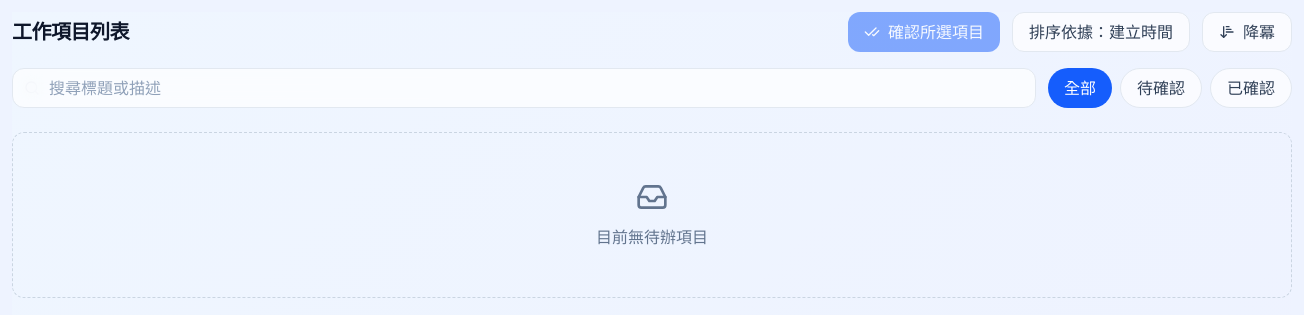
Test: WorkItemsList › 可切換排序欄位為標題
The image size is (1304, 315).
Expected: the text "目前無待辦項目" is shown, x1=596 y1=225 x2=708 y2=249
What coordinates should you click on to do the following:
click the button "排序依據：建立時間"
I would click on:
 (1101, 32)
Its box is x1=1012 y1=12 x2=1190 y2=52.
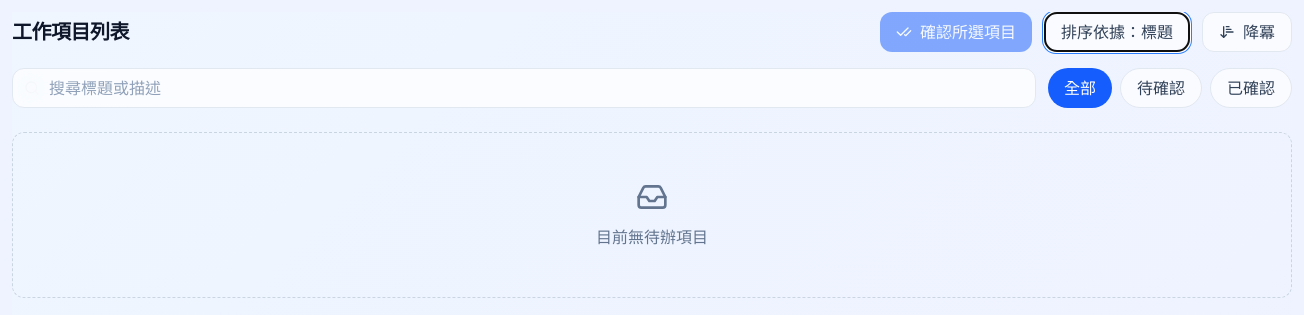
Now the button "排序依據：標題" is shown, box x1=1044 y1=12 x2=1190 y2=52
